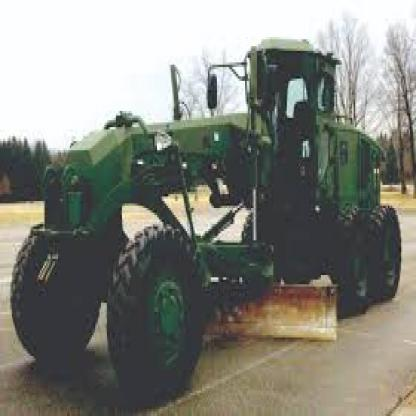bull_dozer/loader/grader: (11, 23, 414, 405)
